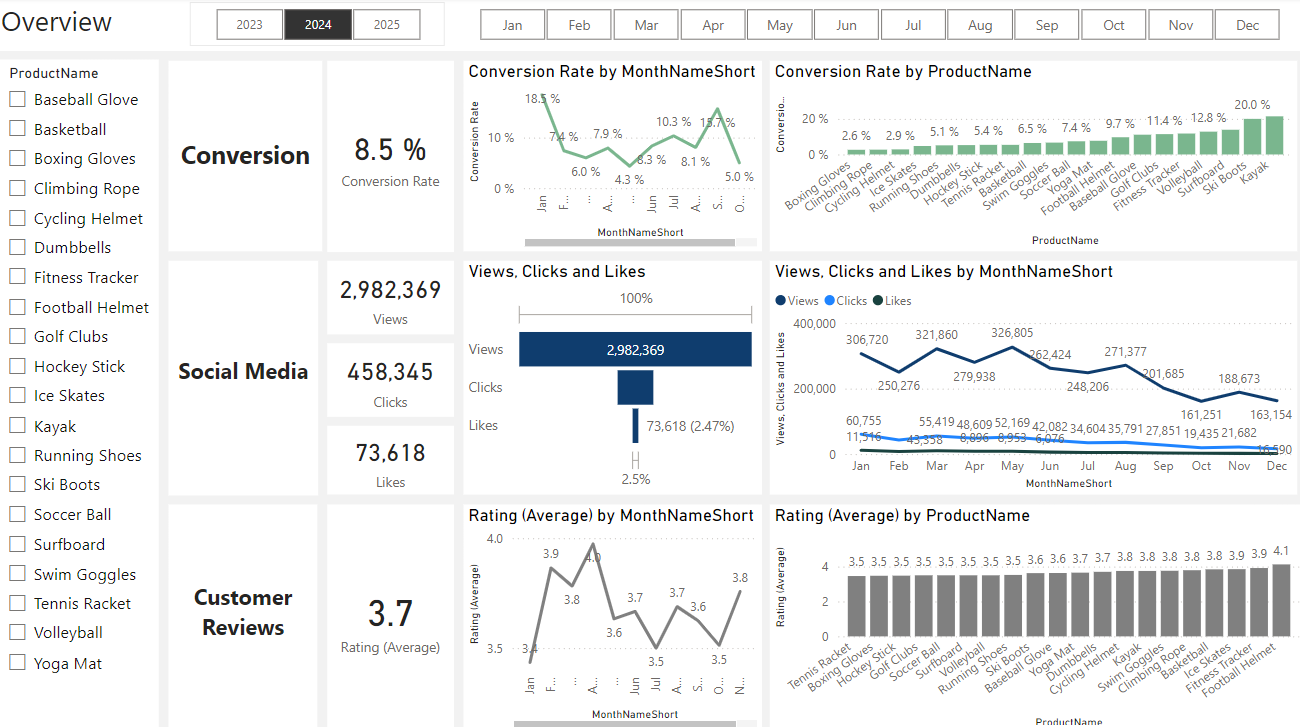

What the dashboard file says about the page in this screenshot:
{"tool":"powerbi","page":{"name":"Overview","canvas":[1280,720],"ordinal":0},"visuals":[{"type":"textbox","box":[0,0,1280,52.6],"z":0},{"type":"slicer","fields":{"Values":["dim_products.ProductName"]},"box":[0,61.6,159.5,658.5],"z":1000},{"type":"card","fields":{"Values":["_Calculations.Conversion Rate"]},"box":[324.1,61.9,123.9,186.8],"z":2000},{"type":"card","fields":{"Values":["_Calculations.Rating (Average)"]},"box":[324.1,496.5,123.9,224],"z":3000},{"type":"lineChart","fields":{"Y":["_Calculations.Conversion Rate"],"Category":["Calendar.MonthNameShort"]},"box":[457.1,61.9,292.3,186.7],"z":4000},{"type":"columnChart","fields":{"Category":["dim_products.ProductName"],"Y":["_Calculations.Conversion Rate"]},"box":[756.7,61.9,516.3,186.7],"z":5000},{"type":"slicer","fields":{"Values":["Calendar.Year"]},"box":[189.4,4.6,249.5,43.7],"z":6000},{"type":"slicer","fields":{"Values":["Calendar.MonthNameShort"]},"box":[448,4.6,832.3,43.7],"z":7000},{"type":"lineChart","fields":{"Y":["_Calculations.Views","_Calculations.Clicks","_Calculations.Likes"],"Category":["Calendar.MonthNameShort"]},"box":[756.6,258.1,516.1,229.2],"z":8000},{"type":"lineChart","fields":{"Category":["Calendar.MonthNameShort"],"Y":["_Calculations.Rating (Average)"]},"box":[457.1,496.3,292.3,224],"z":9000},{"type":"columnChart","fields":{"Category":["dim_products.ProductName"],"Y":["_Calculations.Rating (Average)"]},"box":[756.6,496.5,523.4,224],"z":10000},{"type":"funnel","fields":{"Y":["_Calculations.Views","_Calculations.Clicks","_Calculations.Likes"]},"box":[457.3,258.1,292.1,229.2],"z":11000},{"type":"card","fields":{"Values":["_Calculations.Views"]},"box":[324.2,257.7,123.8,71.9],"z":12000},{"type":"textbox","box":[168.5,61.9,150.3,186.7],"z":13000},{"type":"textbox","box":[168.5,257.7,146.6,229.5],"z":14000},{"type":"textbox","box":[168.5,496.3,145.7,224],"z":15000},{"type":"card","fields":{"Values":["_Calculations.Clicks"]},"box":[324.2,338.8,123.8,71.9],"z":16000},{"type":"card","fields":{"Values":["_Calculations.Likes"]},"box":[324.2,419.8,123.8,67.4],"z":17000}]}

Visuals, with their boxes in screenshot pixels (x1, y1, x2, y2), scaled from the page's 1280x720 canvas onto the 1300x727 screenshot:
textbox: bbox=(0, 0, 1299, 53)
slicer - dim_products.ProductName: bbox=(0, 62, 162, 726)
card - _Calculations.Conversion Rate: bbox=(329, 63, 455, 251)
card - _Calculations.Rating (Average): bbox=(329, 501, 455, 726)
lineChart - _Calculations.Conversion Rate x Calendar.MonthNameShort: bbox=(464, 63, 761, 251)
columnChart - dim_products.ProductName x _Calculations.Conversion Rate: bbox=(769, 63, 1293, 251)
slicer - Calendar.Year: bbox=(192, 5, 446, 49)
slicer - Calendar.MonthNameShort: bbox=(455, 5, 1299, 49)
lineChart - _Calculations.Views x _Calculations.Clicks: bbox=(768, 261, 1293, 492)
lineChart - Calendar.MonthNameShort x _Calculations.Rating (Average): bbox=(464, 501, 761, 726)
columnChart - dim_products.ProductName x _Calculations.Rating (Average): bbox=(768, 501, 1299, 726)
funnel - _Calculations.Views x _Calculations.Clicks: bbox=(464, 261, 761, 492)
card - _Calculations.Views: bbox=(329, 260, 455, 333)
textbox: bbox=(171, 63, 324, 251)
textbox: bbox=(171, 260, 320, 492)
textbox: bbox=(171, 501, 319, 726)
card - _Calculations.Clicks: bbox=(329, 342, 455, 415)
card - _Calculations.Likes: bbox=(329, 424, 455, 492)
